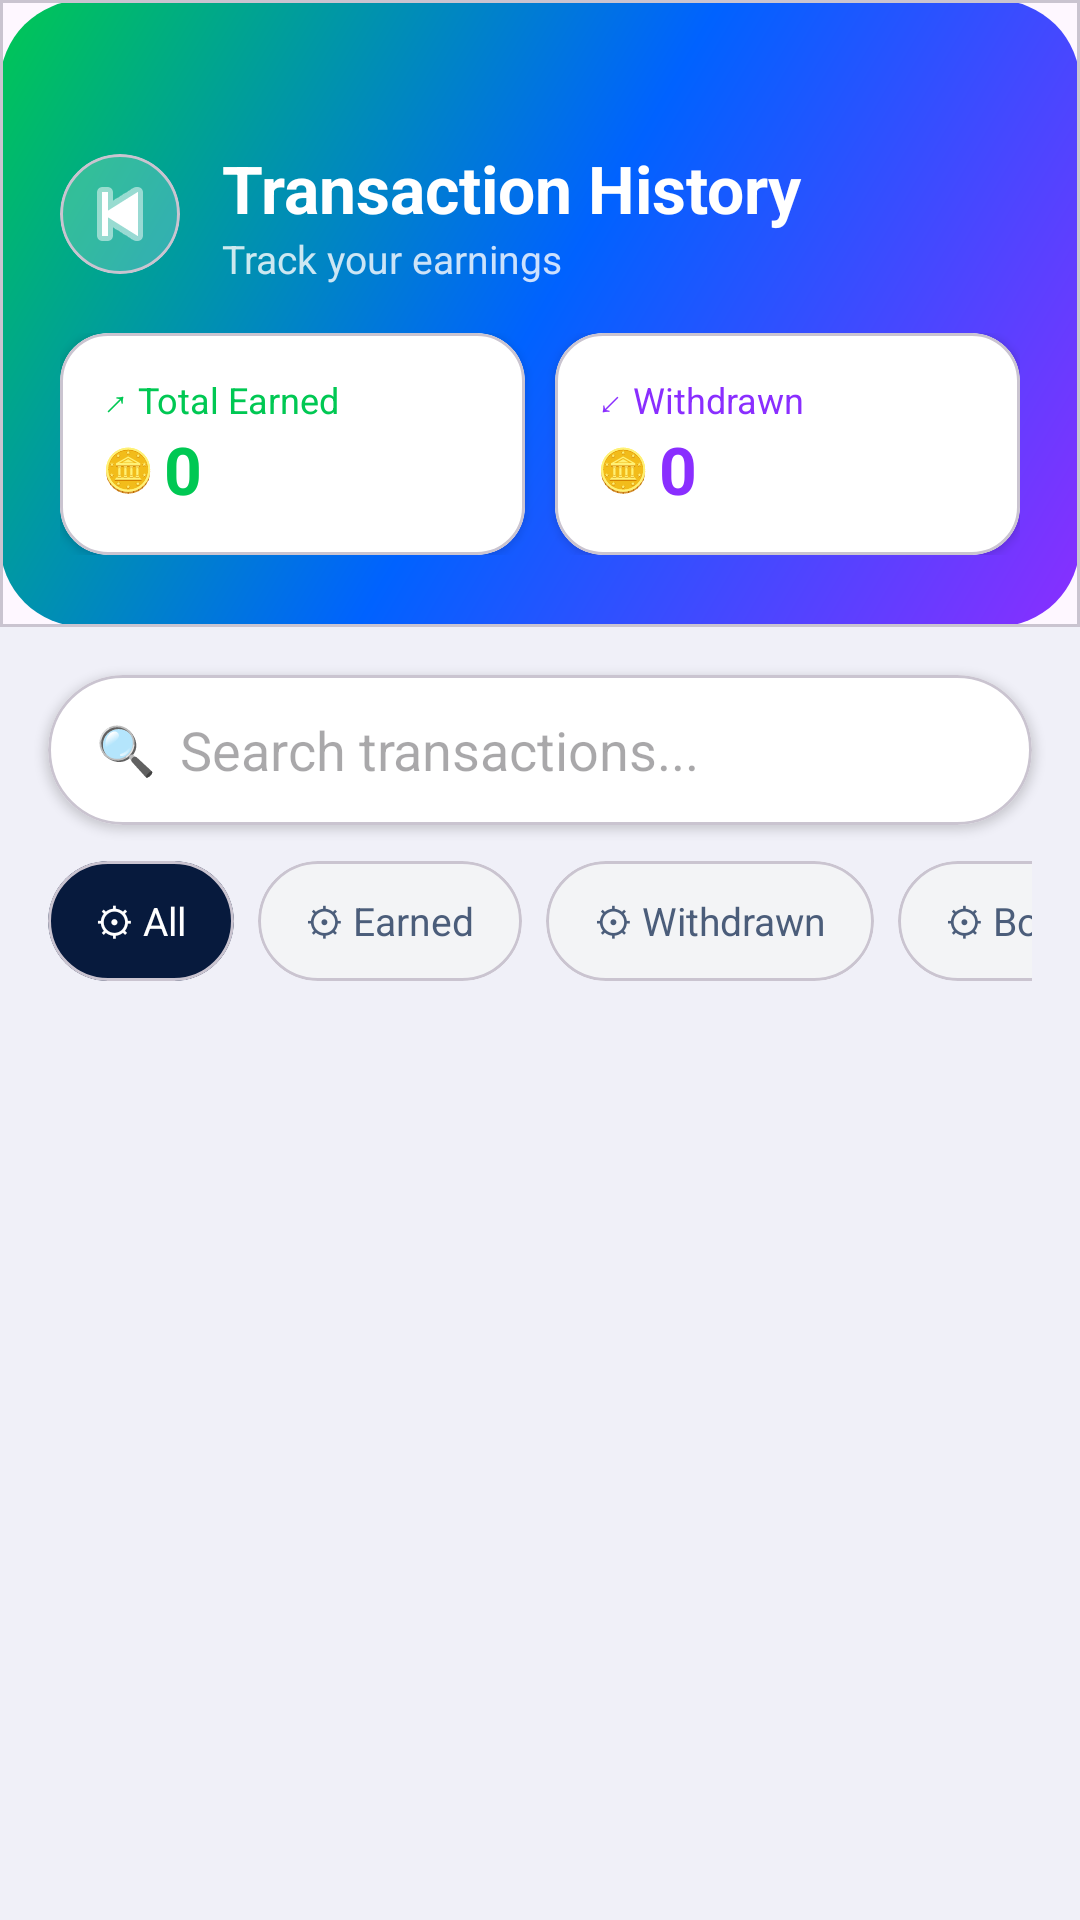

Where icons sit on this 1080px x 1920px app screen, as (x1, y1, x2, y2):
Back: (60, 154, 180, 274)
